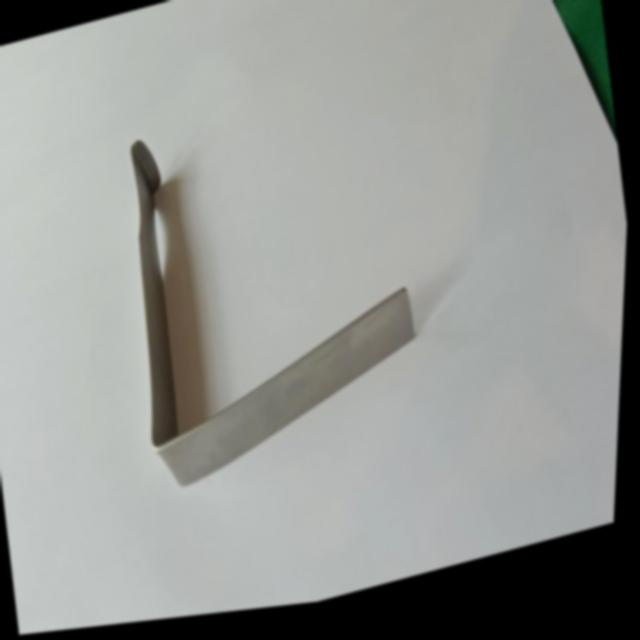AustinRetractor: (95, 58, 452, 513)
